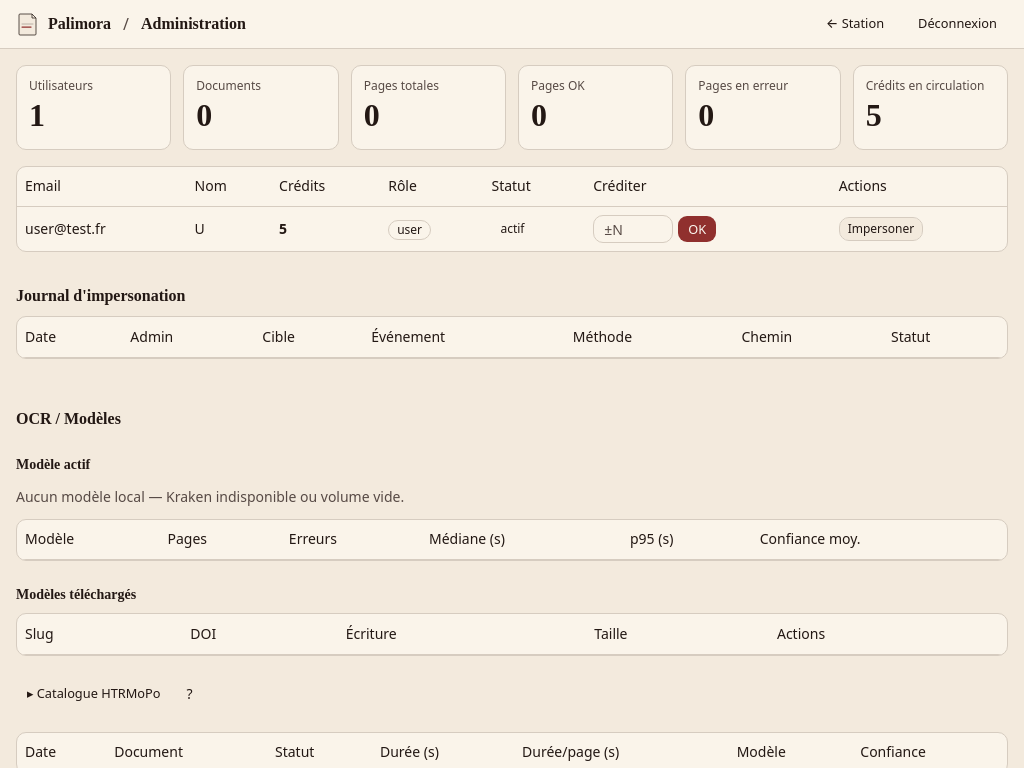
Test: failed impersonate shows toast and does not navigate
Click the button "Impersoner".
click(881, 229)  # box [839,217,923,241]
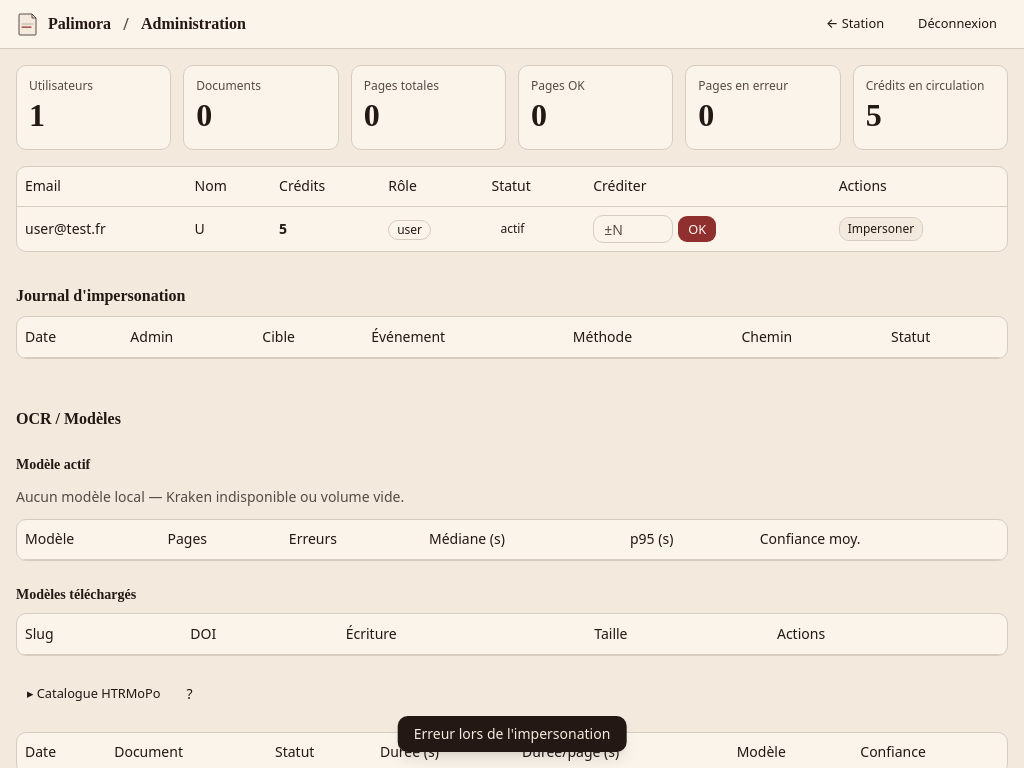
Result: the text "Erreur lors de l'impersonation" is shown at [398,716,626,752]
